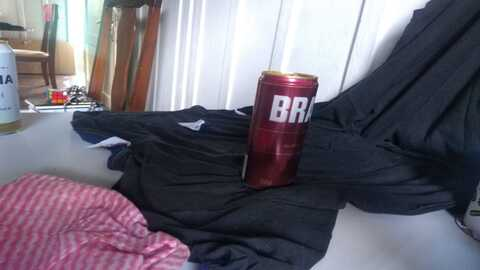duplo_malte: (239, 70, 317, 190)
